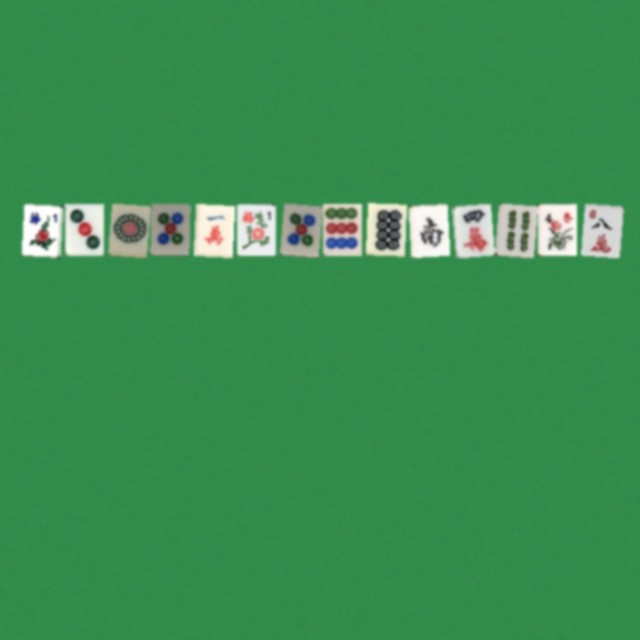tile: (21, 203, 60, 255), (64, 203, 103, 255), (107, 203, 146, 255), (150, 203, 189, 255), (193, 203, 232, 255), (236, 203, 275, 255), (279, 203, 318, 255), (322, 203, 361, 255), (365, 203, 404, 255), (408, 203, 447, 255), (451, 203, 490, 255), (494, 203, 533, 255), (537, 203, 576, 255), (580, 203, 619, 255)
